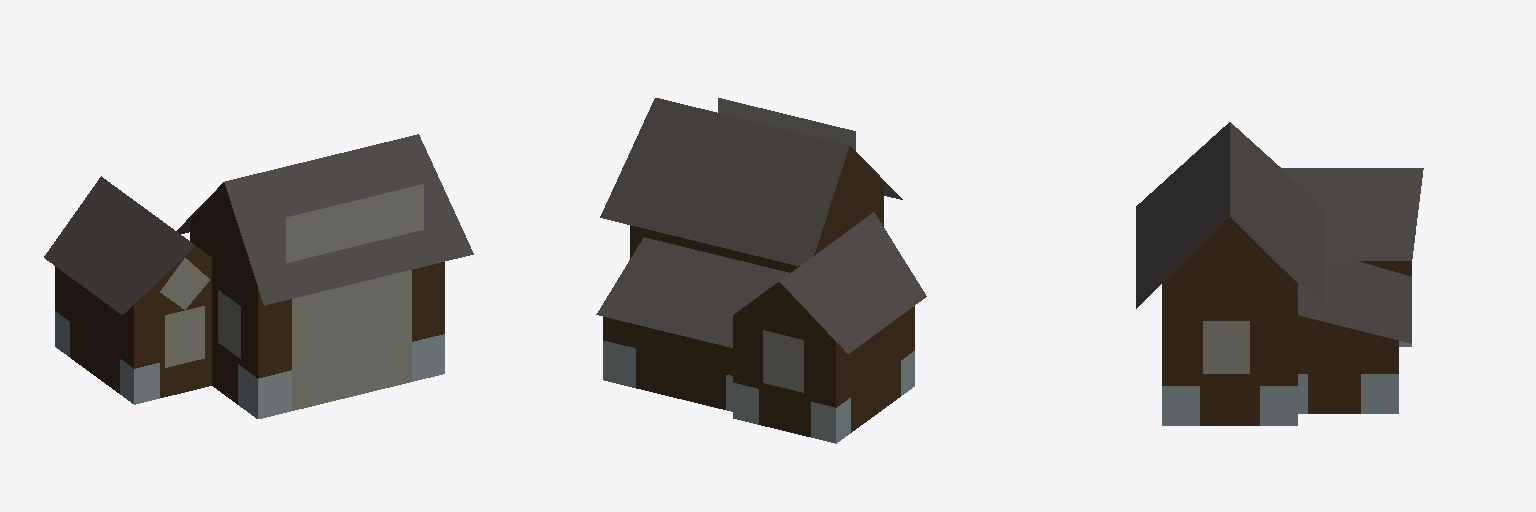
The model's file is house.obj.
3 views of the same model, side by side, from view 1: azimuth 30°, elevation 25°; view 2: azimuth 150°, elevation 25°; view 3: azimuth 270°, elevation 25° (orthographic).
Parts seen in each view (by area): view 1: Mesh5 Model, Mesh1 nooks_cranny_window1 Model, Mesh4 nooks_cranny_window4 Model; view 2: Mesh5 Model, Mesh2 nooks_cranny_window2 Model; view 3: Mesh5 Model, Mesh3 nooks_cranny_window3 Model.
Boxes of the visible parts, x1=… form: Mesh5 Model: x1=44, y1=134, x2=473, y2=418; Mesh1 nooks_cranny_window1 Model: x1=165, y1=306, x2=204, y2=367; Mesh4 nooks_cranny_window4 Model: x1=218, y1=290, x2=240, y2=358; Mesh5 Model: x1=596, y1=98, x2=926, y2=443; Mesh2 nooks_cranny_window2 Model: x1=763, y1=330, x2=803, y2=392; Mesh5 Model: x1=1136, y1=122, x2=1423, y2=425; Mesh3 nooks_cranny_window3 Model: x1=1203, y1=321, x2=1249, y2=373.
Size of the model in its own units: 5.26 by 3.66 by 4.48.